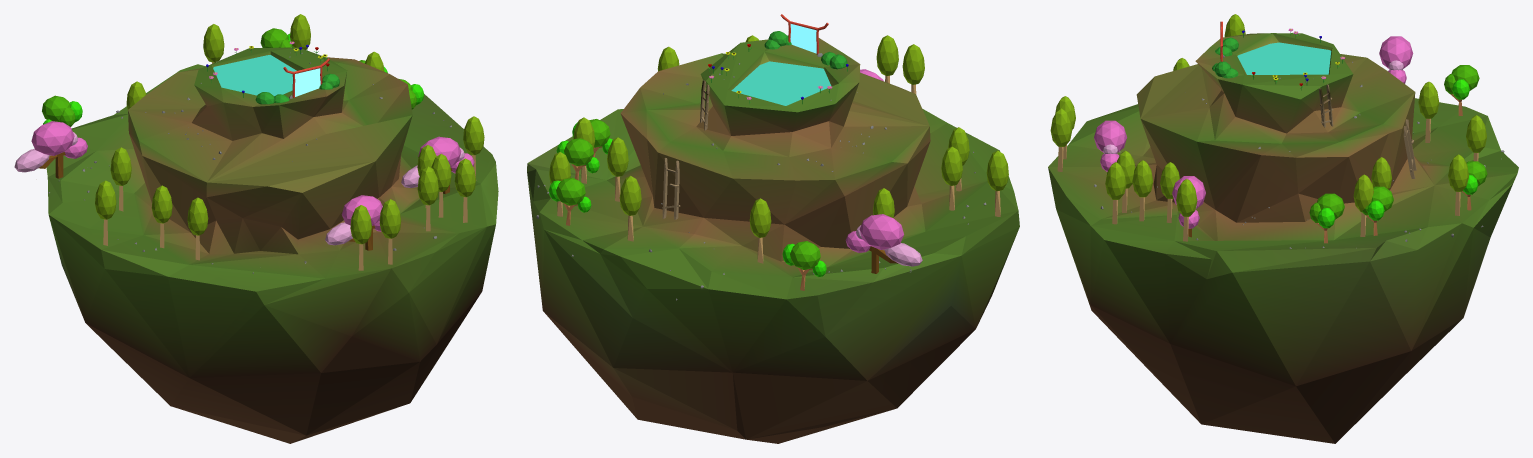
3 renders of one model, left to right at view 1: azimuth 30°, elevation 25°; view 2: azimuth 150°, elevation 25°; view 3: azimuth 270°, elevation 25°, orthographic. The views are drawn at different scales.
Parts seen in each view (by area): view 1: Island.012, Water.012, Tree3 - 2.046, Tree3 - 2.044, Tree3 - 2.045, Tree1 - 2.060, Tree2 - 2.091, Tree2 - 2.097, Tree2 - 2.094, Tree2 - 2.096, Tree2 - 2.089, Tree2 - 2.084 (+8 smaller); view 2: Island.012, Water.012, Tree3 - 2.046, Tree1 - 2.060, Tree1 - 2.059, Tree1 - 2.058, Tree2 - 2.094, Tree2 - 2.087, Tree2 - 2.095, Tree2 - 2.088, Tree2 - 2.086, Tree2 - 2.097 (+8 smaller); view 3: Island.012, Water.012, Tree3 - 2.044, Tree3 - 2.046, Tree1 - 2.060, Tree1 - 2.057, Tree2 - 2.091, Tree2 - 2.092, Tree2 - 2.089, Tree1 - 2.058, Tree2 - 2.085, Tree2 - 2.095 (+8 smaller).
Boxes of the visible parts, x1,y1,x2,y2 form: Island.012: [46, 47, 498, 443]; Water.012: [213, 55, 296, 96]; Tree3 - 2.046: [14, 121, 87, 178]; Tree3 - 2.044: [325, 195, 382, 250]; Tree3 - 2.045: [401, 136, 474, 193]; Tree1 - 2.060: [42, 95, 82, 126]; Tree2 - 2.091: [379, 199, 401, 264]; Tree2 - 2.097: [350, 205, 371, 270]; Tree2 - 2.094: [95, 180, 116, 245]; Tree2 - 2.096: [417, 166, 438, 231]; Tree2 - 2.089: [454, 158, 475, 222]; Tree2 - 2.084: [110, 147, 131, 211]; Island.012: [527, 38, 1019, 443]; Water.012: [731, 61, 831, 105]; Tree3 - 2.046: [845, 214, 922, 273]; Tree1 - 2.060: [782, 241, 826, 290]; Tree1 - 2.059: [549, 177, 591, 225]; Tree1 - 2.058: [556, 138, 599, 180]; Tree2 - 2.094: [986, 150, 1008, 216]; Tree2 - 2.087: [619, 175, 641, 241]; Tree2 - 2.095: [749, 198, 771, 263]; Tree2 - 2.088: [941, 146, 962, 210]; Tree2 - 2.086: [607, 137, 628, 201]; Tree2 - 2.097: [902, 44, 924, 94]; Island.012: [1048, 33, 1518, 443]; Water.012: [1237, 42, 1331, 74]; Tree3 - 2.044: [1094, 120, 1127, 171]; Tree3 - 2.046: [1379, 36, 1413, 83]; Tree1 - 2.060: [1444, 65, 1479, 115]; Tree1 - 2.057: [1309, 193, 1344, 243]; Tree2 - 2.091: [1050, 108, 1072, 171]; Tree2 - 2.092: [1176, 179, 1197, 241]; Tree2 - 2.089: [1105, 162, 1126, 224]; Tree1 - 2.058: [1362, 186, 1393, 235]; Tree2 - 2.085: [1448, 154, 1468, 215]; Tree2 - 2.095: [1418, 81, 1439, 142].
Bounding box in the file's own units: 41.96 × 39.87 × 43.73.
